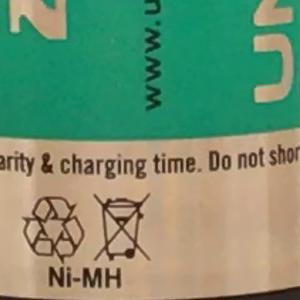keyword: (39, 258, 131, 298)
